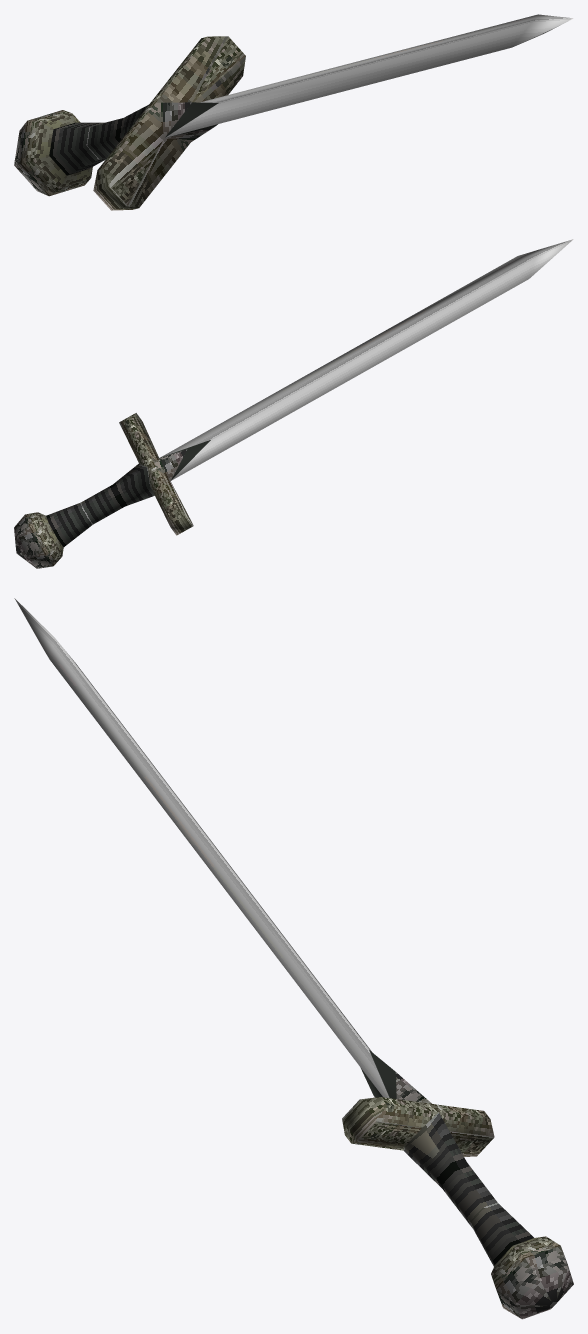
The model's file is CH11_CINE05_SAVECARWINFAILURE_SWORD.fbx.
The picture shows the model from 3 angles, top to bottom: view 1: azimuth 90°, elevation 25°; view 2: azimuth 150°, elevation 25°; view 3: azimuth 270°, elevation 25°; orthographic projection. The views are drawn at different scales.
Parts seen in each view (by area): view 1: CH11_CINE05_SAVECARWINFAILURE_SWORD; view 2: CH11_CINE05_SAVECARWINFAILURE_SWORD; view 3: CH11_CINE05_SAVECARWINFAILURE_SWORD.
Part boxes in pixels (x1=…): CH11_CINE05_SAVECARWINFAILURE_SWORD: x1=14, y1=14, x2=573, y2=210; CH11_CINE05_SAVECARWINFAILURE_SWORD: x1=14, y1=239, x2=573, y2=568; CH11_CINE05_SAVECARWINFAILURE_SWORD: x1=14, y1=598, x2=573, y2=1319.
Size of the model in its own units: 10129 by 7235 by 8287.
1 material, 1 textured.
